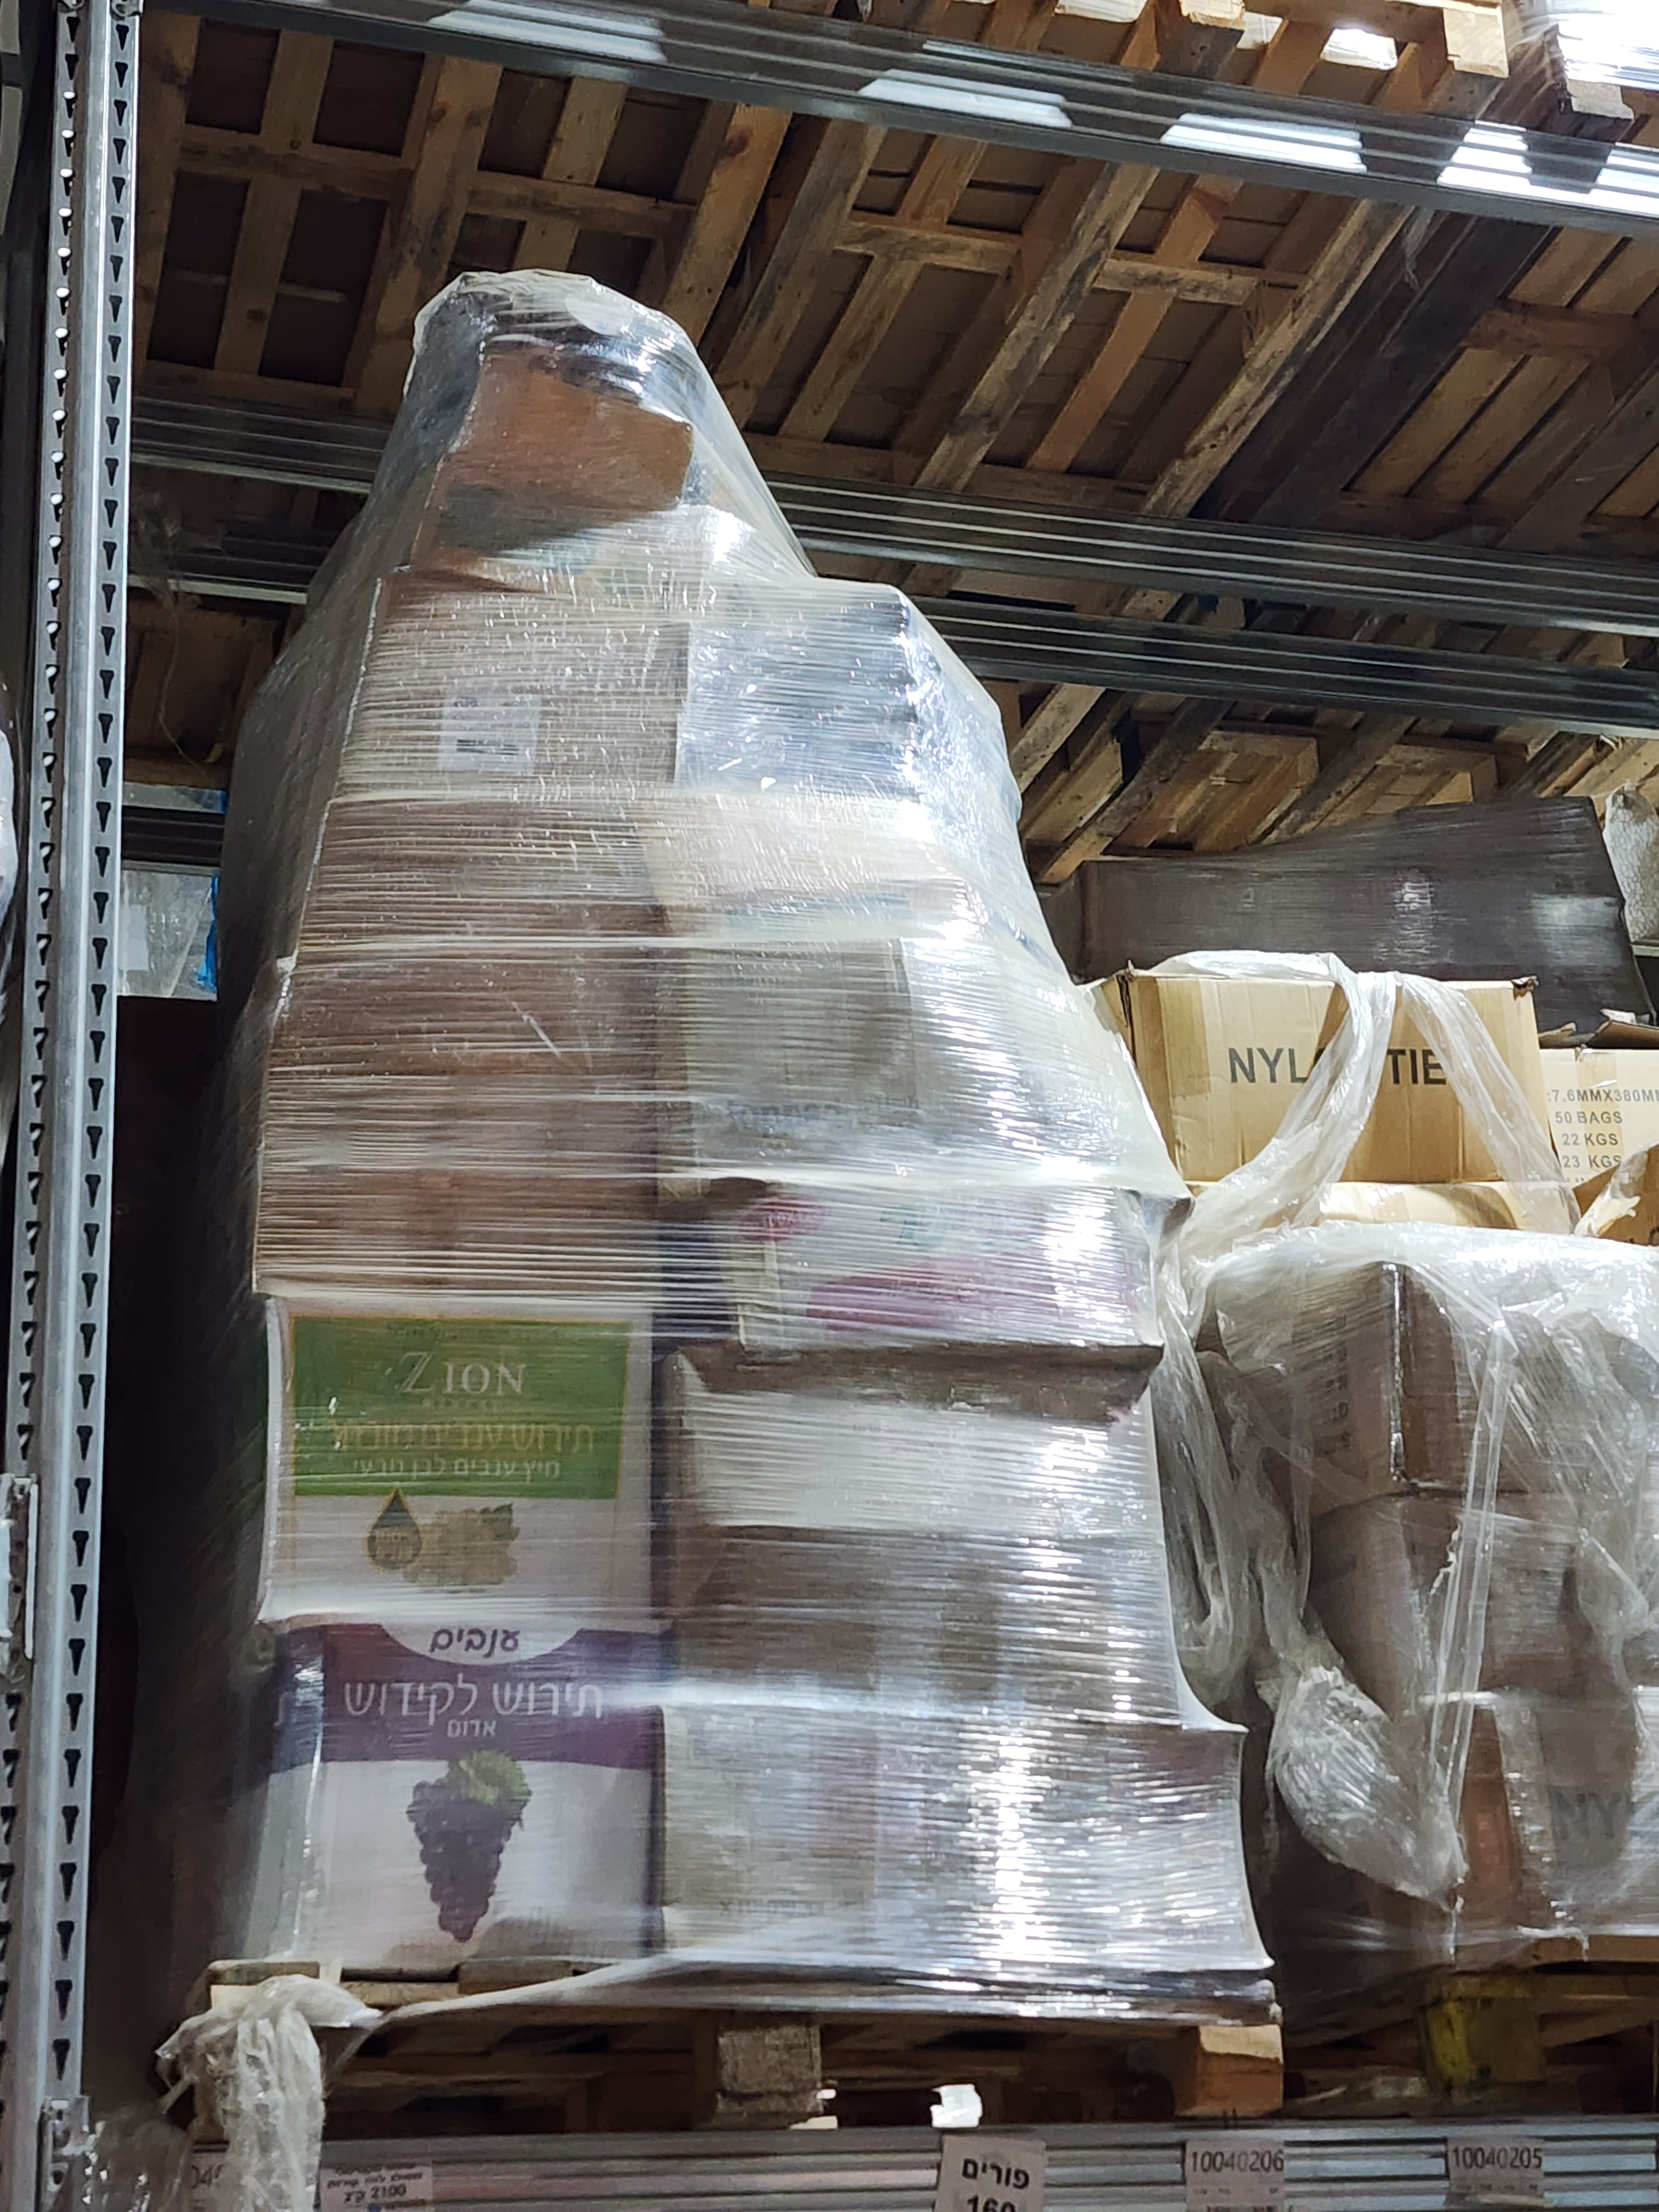box: (619, 960, 1176, 1376), (655, 1320, 1237, 1707), (669, 1646, 1305, 1987), (148, 1278, 678, 1649), (223, 1608, 674, 2033), (213, 881, 641, 1294), (1101, 923, 1575, 1204)
